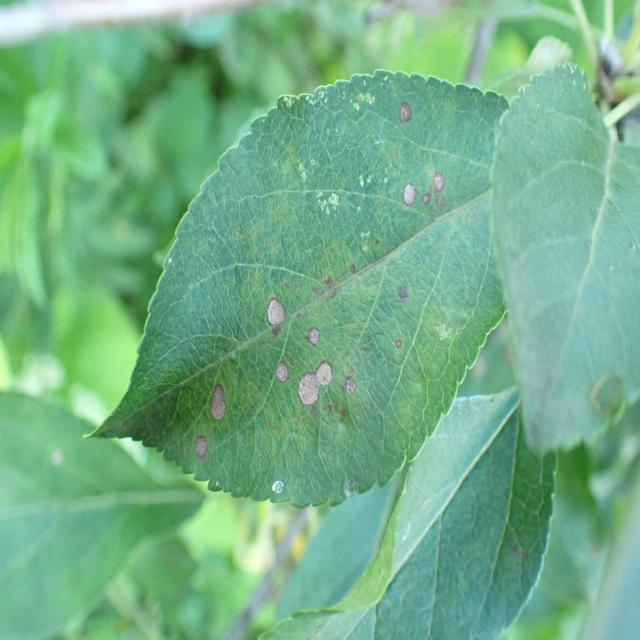Black Rot: (392, 160, 462, 236), (296, 355, 355, 437), (198, 373, 238, 444), (259, 274, 292, 354), (185, 429, 222, 491), (303, 294, 330, 366), (264, 471, 296, 520), (262, 360, 296, 404), (396, 91, 420, 150)
